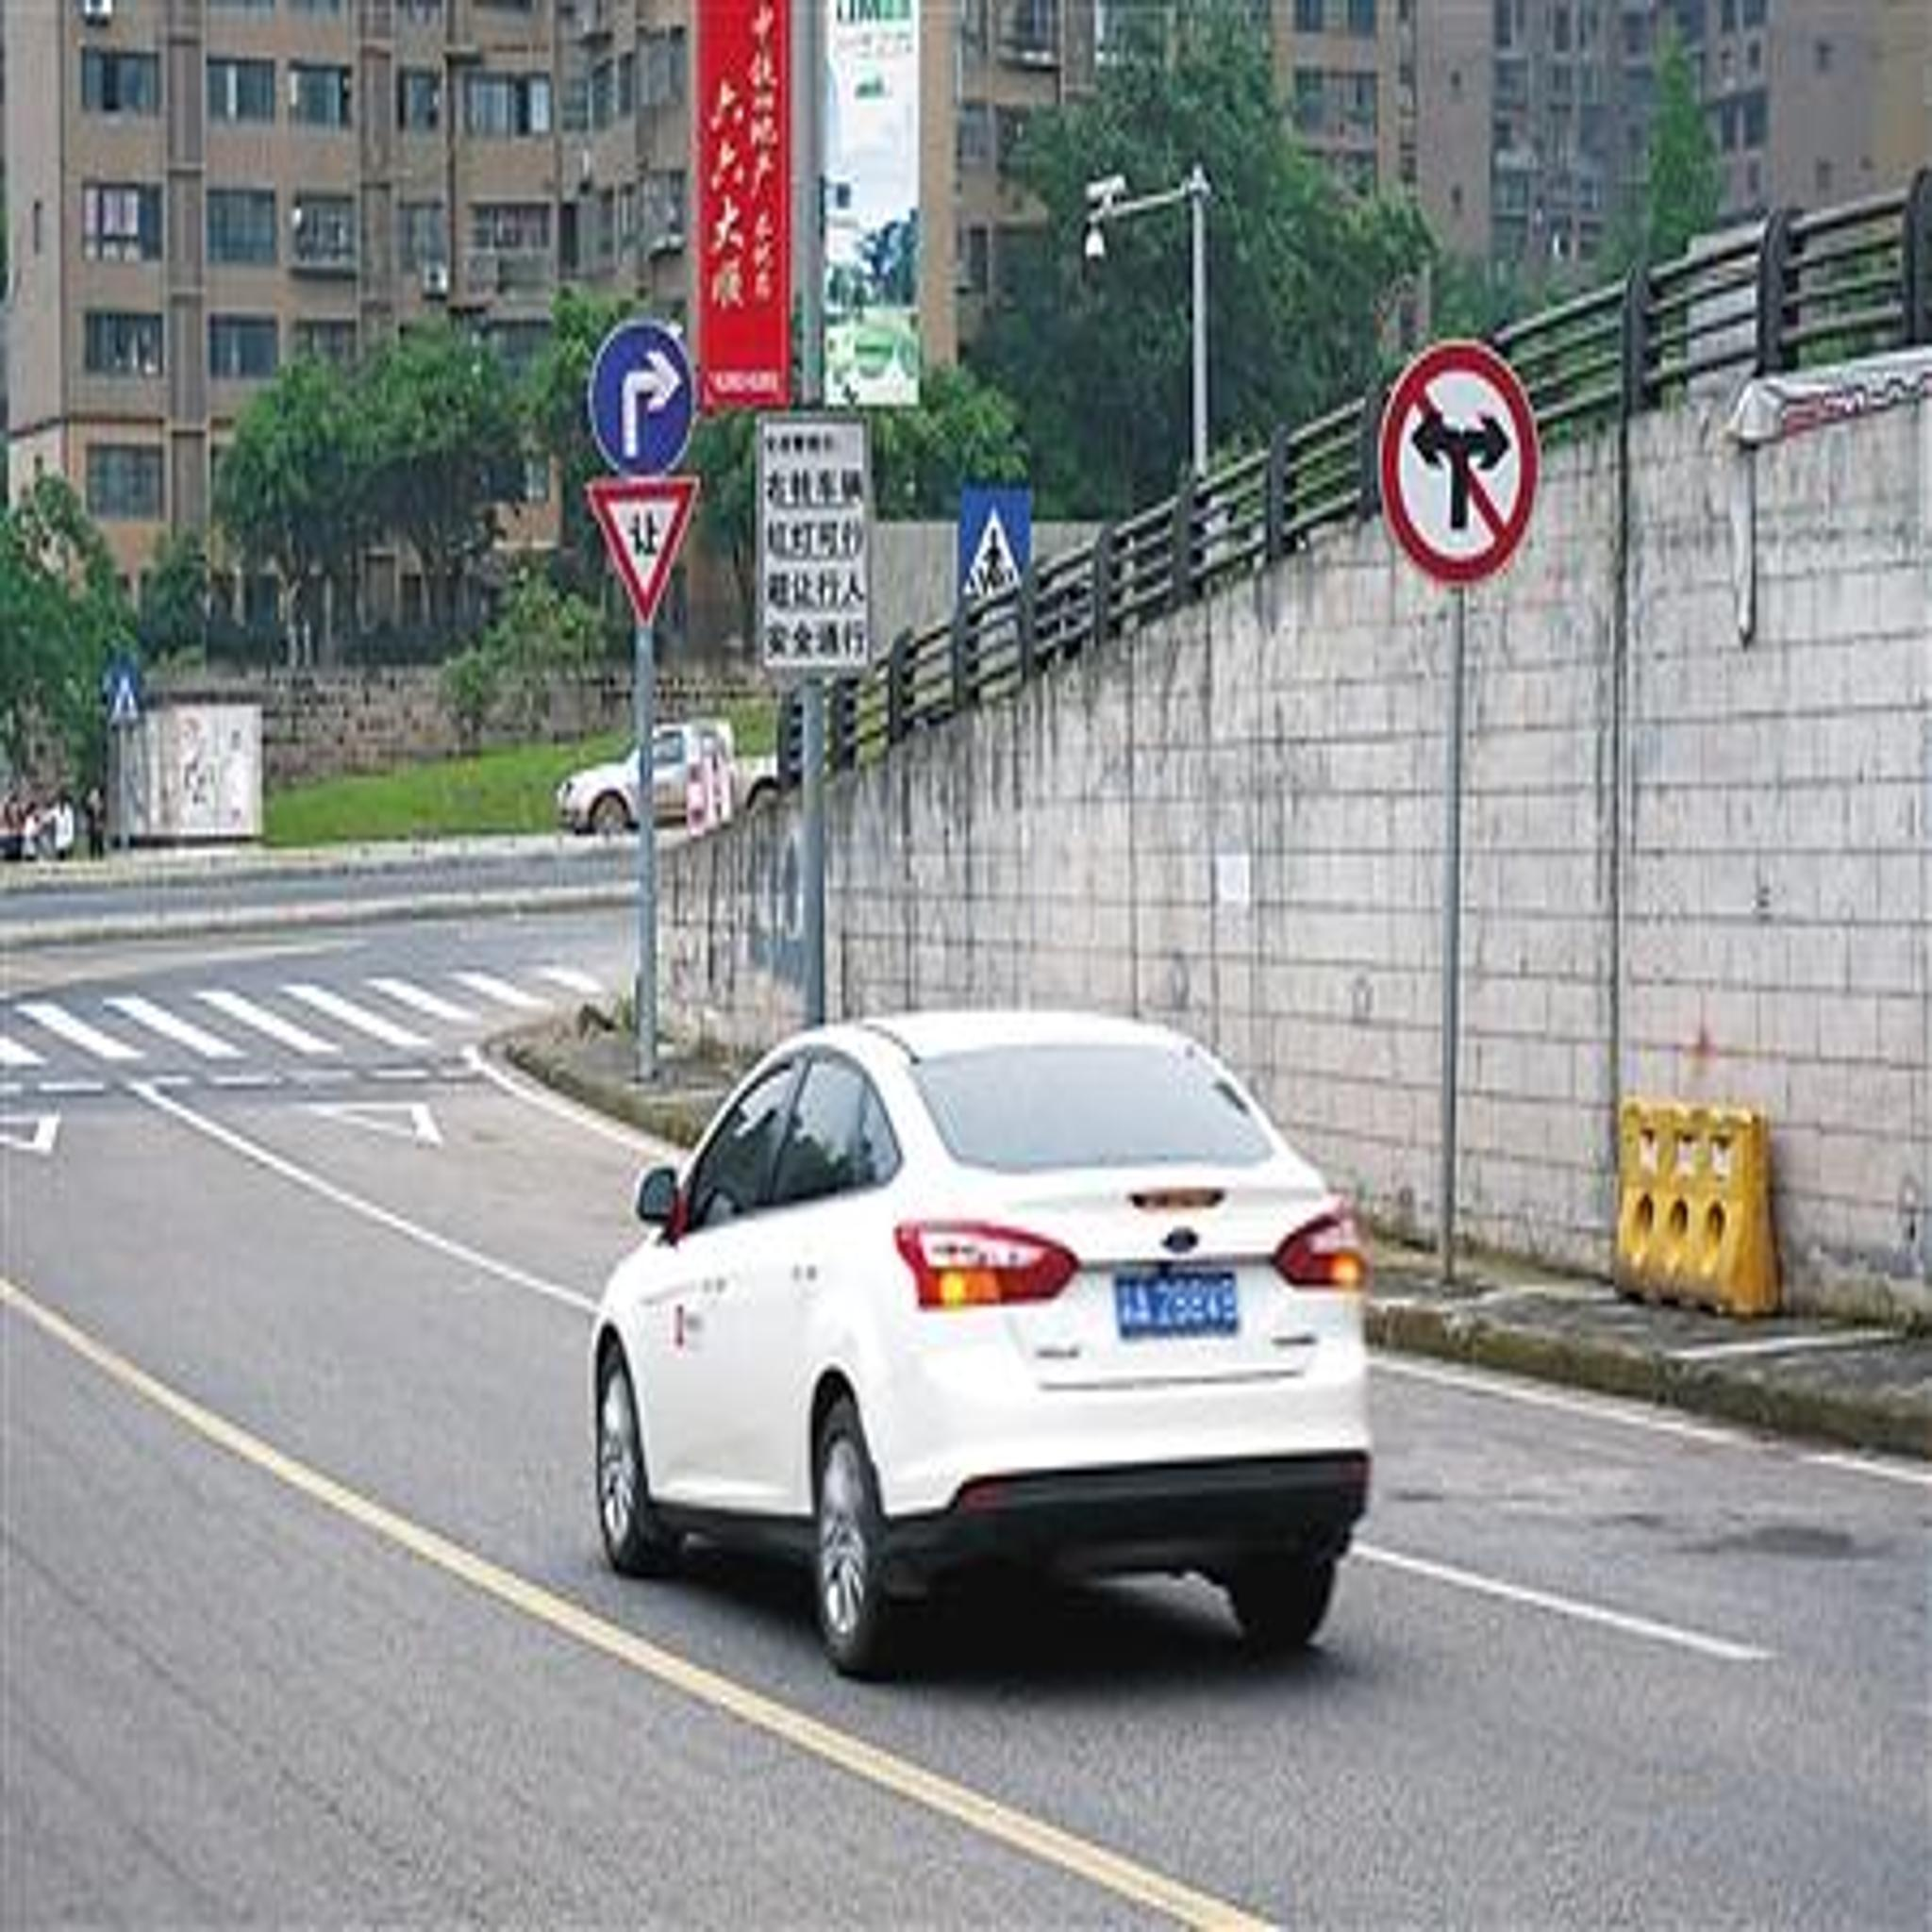ip: (955, 488, 1031, 598), (97, 678, 143, 725)
pg: (586, 474, 699, 605)
